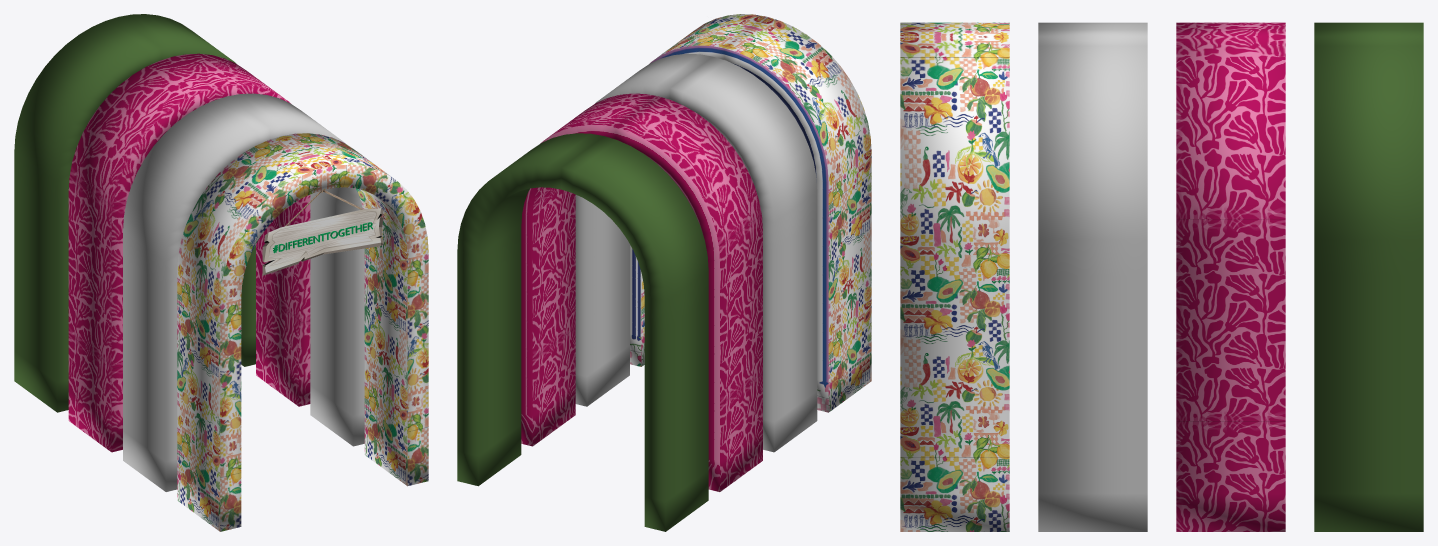
File: UCB-tunnel-v-resized-01.gltf
The picture shows the model from 3 angles, left to right: view 1: azimuth 30°, elevation 25°; view 2: azimuth 150°, elevation 25°; view 3: azimuth 270°, elevation 25°; orthographic projection. The views are drawn at different scales.
Parts seen in each view (by area): view 1: Cube, Cube.006, Cube.004, Cube.005, Plane.001, Text; view 2: Cube.005, Cube.004, Cube.006, Cube; view 3: Cube, Cube.004, Cube.005, Cube.006.
Part boxes in pixels (<box>): Cube: <box>177,133,428,531</box>; Cube.006: <box>123,93,364,491</box>; Cube.004: <box>68,53,310,452</box>; Cube.005: <box>14,14,255,412</box>; Plane.001: <box>262,208,383,275</box>; Text: <box>273,222,372,253</box>; Cube.005: <box>457,133,708,531</box>; Cube.004: <box>521,93,762,491</box>; Cube.006: <box>575,53,817,452</box>; Cube: <box>630,14,871,412</box>; Cube: <box>900,22,1009,531</box>; Cube.004: <box>1176,22,1285,531</box>; Cube.005: <box>1314,22,1423,531</box>; Cube.006: <box>1038,22,1147,531</box>.
Bounding box in the file's own units: 0.9996 × 1.55 × 1.71.
